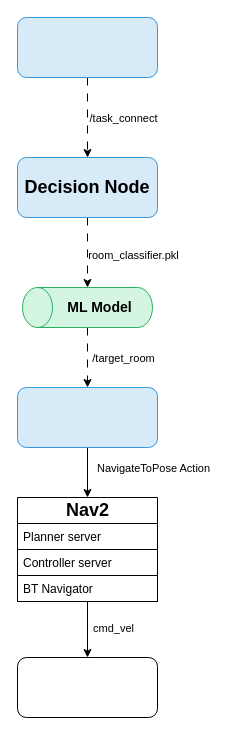
Some shapes in this 227 by 735 pixel diagram are drawn without their labels. The shapes that lost their labels are listed below. From the top down, each one's centre as x and y in pixels, then its label:
At (x=87, y=47): "Input Node".
At (x=87, y=417): "Navigator Node".
At (x=87, y=687): "Turtlebot3".
